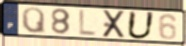6: (157, 13, 178, 41)
8: (50, 8, 72, 36)
L: (78, 8, 98, 38)
Q: (20, 7, 48, 35)
U: (125, 10, 157, 41)
X: (101, 9, 128, 39)
